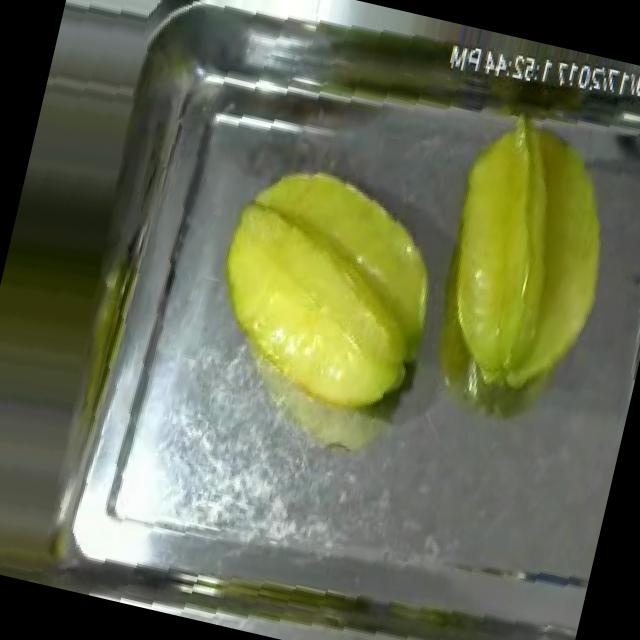fruit: (182, 144, 468, 440), (402, 92, 640, 432)
